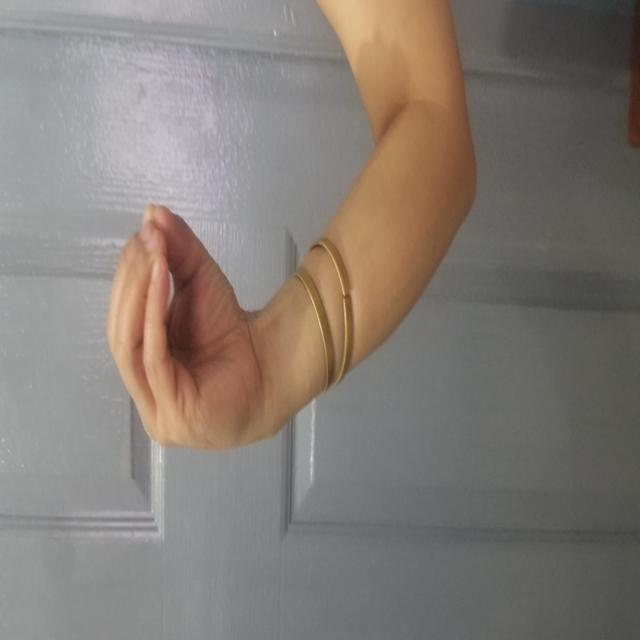O: (66, 178, 324, 493)
